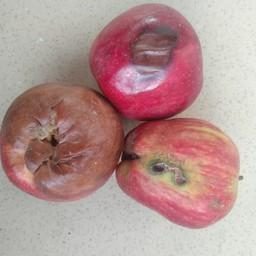Bad_apple: (0, 78, 115, 206), (121, 117, 246, 231), (88, 0, 206, 117)
